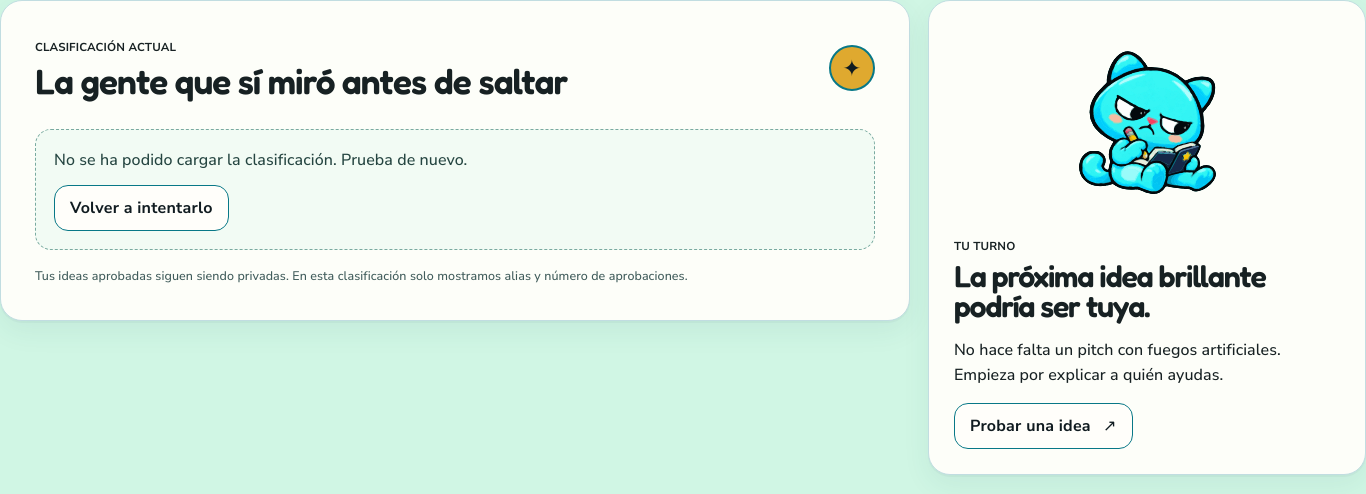
Test: NotableHumans › lets the user retry a failed request and renders the returned ranking
Check: the message "No se ha podido cargar la clasificación. Prueba de nuevo. Volver a intentarlo" is shown, box [35,129,875,250]
Step 1. Click the button "Volver a intentarlo" → (141, 208), box [54,185,229,231]
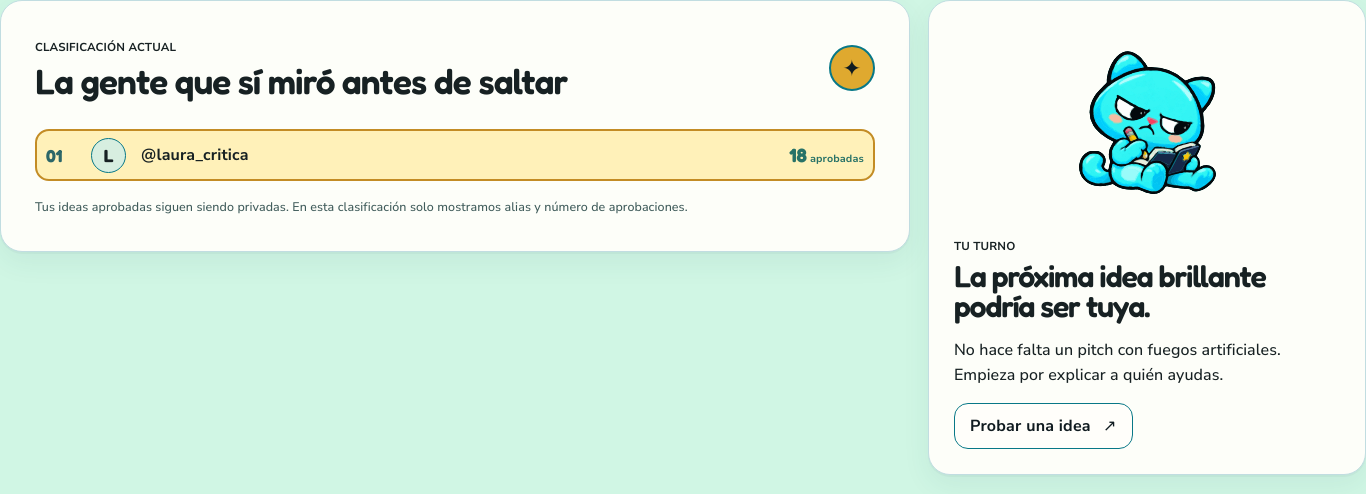
Check: the text "@laura_critica" is shown, box [141,144,249,166]
